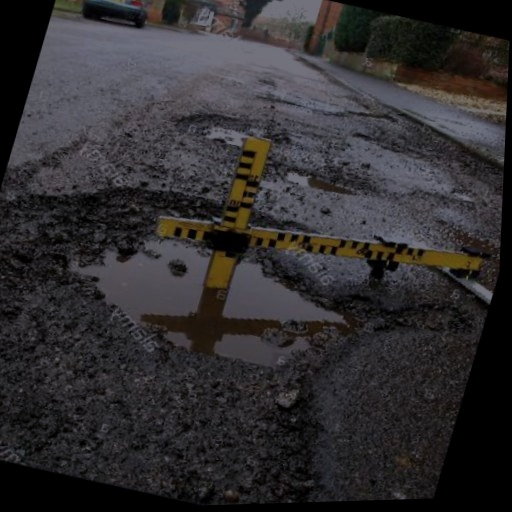pothole: (0, 137, 404, 452), (170, 93, 295, 163), (277, 158, 372, 203)
